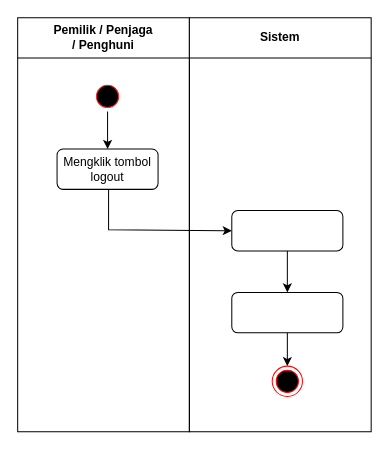
This 389x449 diagram has some shape labels left out. The centre of each missing label's shape, as x and y in pixels:
"Mengarahkan ke halaman login" goes at point 287,312.
"Menghapus accress token" goes at point 287,230.
